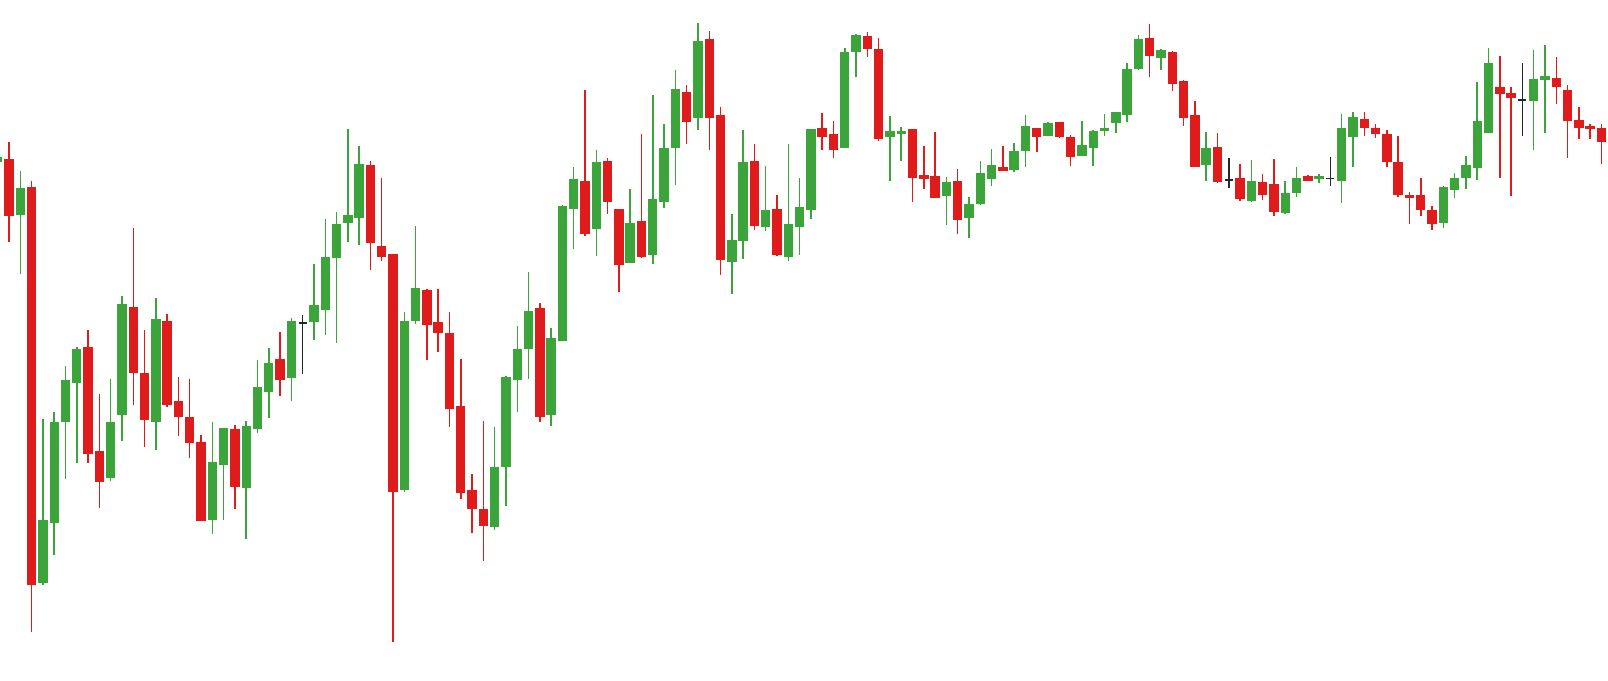buy: (197, 302, 410, 641), (611, 138, 736, 306), (1270, 156, 1450, 236)
